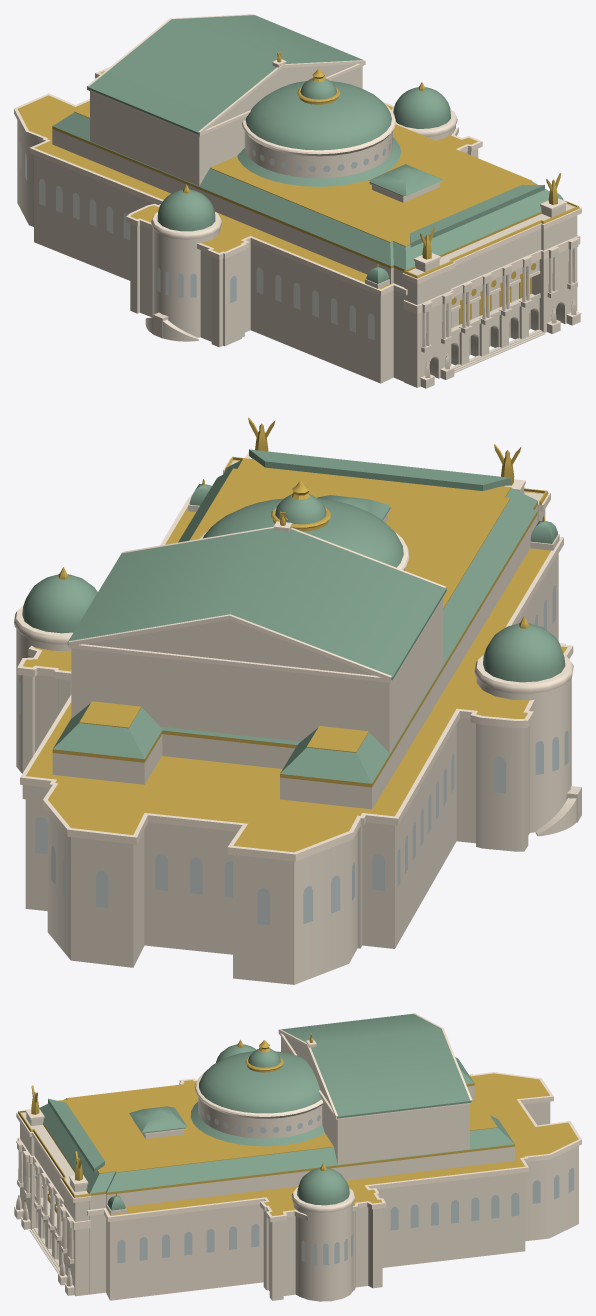
The picture shows the model from 3 angles, top to bottom: view 1: azimuth 30°, elevation 25°; view 2: azimuth 150°, elevation 25°; view 3: azimuth 270°, elevation 25°; orthographic projection. The views are drawn at different scales.
Visible parts, largest first — view 1: stone, metal, roof, trim, window; view 2: stone, metal, roof, trim, window; view 3: stone, metal, roof, trim, window.
Boxes of the visible parts, x1,y1,x2,y2 form: stone: [17, 62, 580, 388]; metal: [53, 15, 564, 283]; roof: [17, 52, 579, 354]; trim: [14, 14, 581, 380]; window: [19, 137, 392, 340]; stone: [16, 460, 581, 984]; metal: [22, 449, 565, 783]; roof: [23, 417, 567, 852]; trim: [14, 451, 573, 861]; window: [17, 585, 571, 925]; stone: [14, 1035, 578, 1301]; metal: [39, 1013, 514, 1210]; roof: [18, 1033, 578, 1221]; trim: [14, 1013, 581, 1288]; window: [117, 1104, 574, 1264].
Size of the model in its own units: 100 by 58 by 158.
